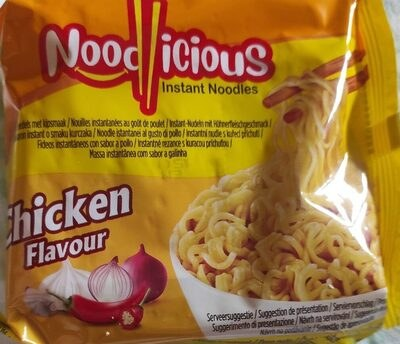Chicken Flavour Instant Noodles: (20, 17, 380, 327)
